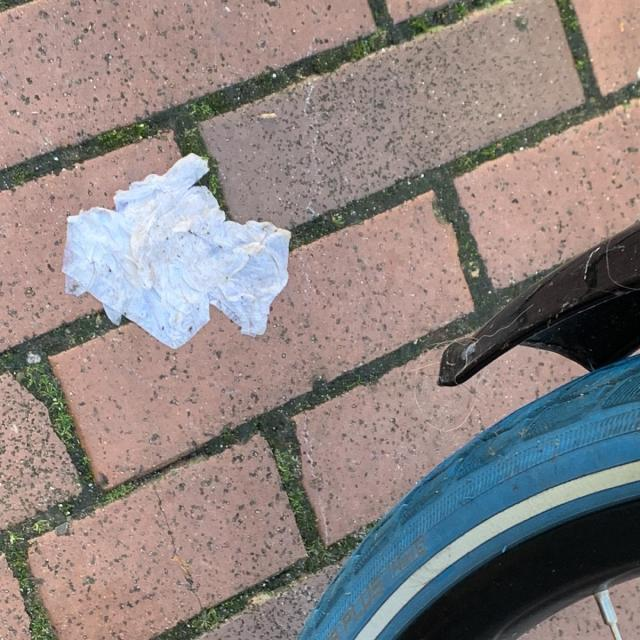Paper: (63, 152, 294, 350)
